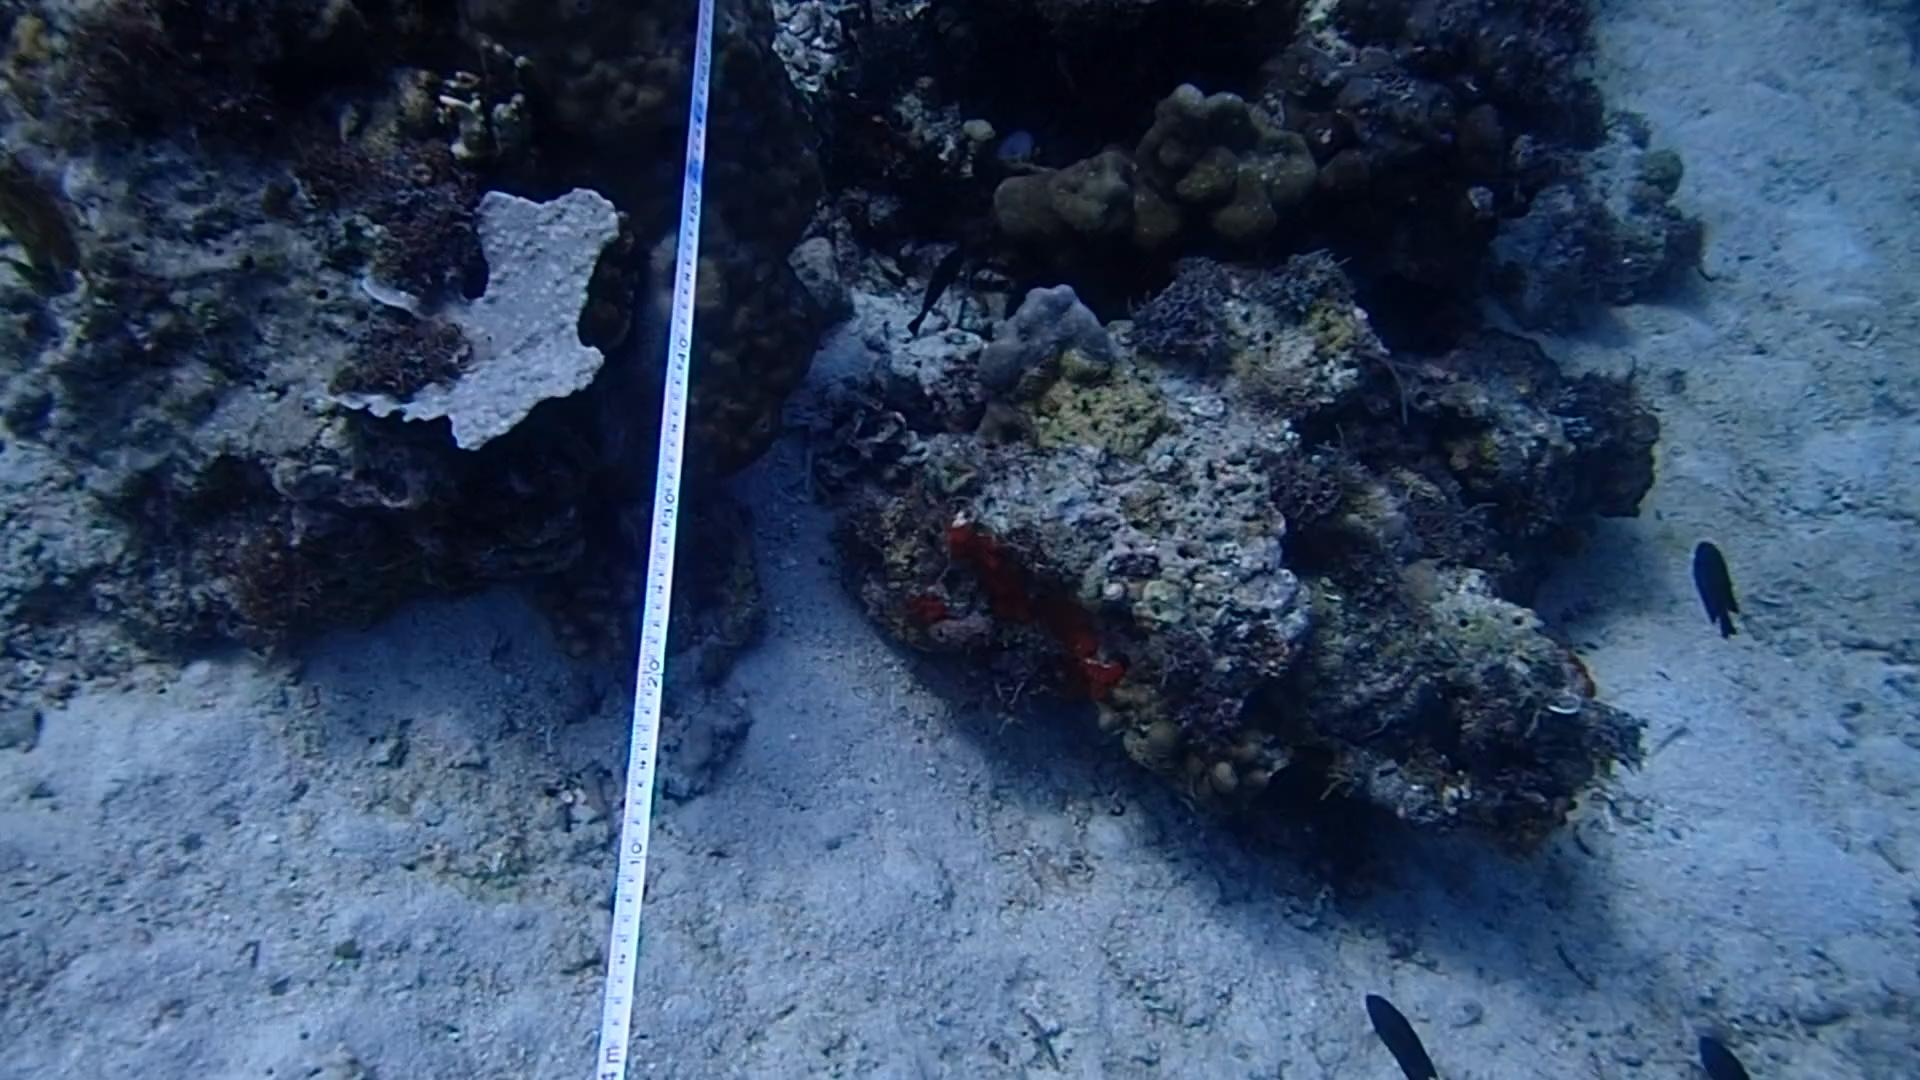Dark Fish: (890, 229, 993, 335), (1672, 537, 1756, 649), (1361, 982, 1437, 1080), (1687, 1019, 1749, 1080)
